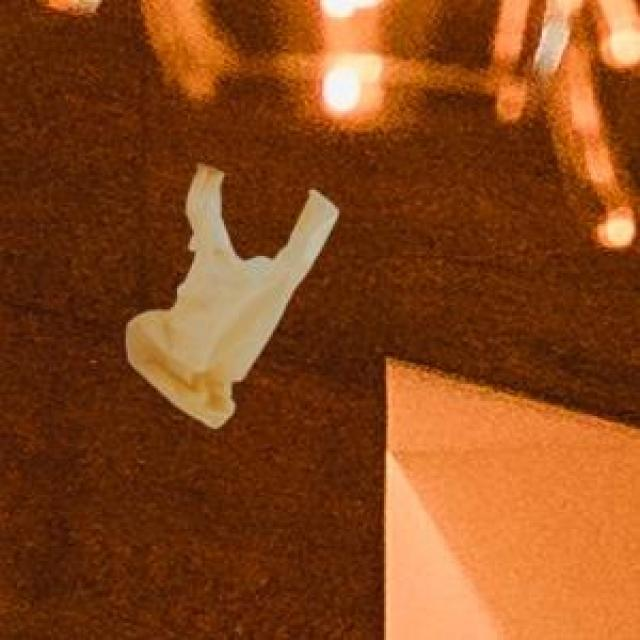plastic: (109, 150, 356, 453)
